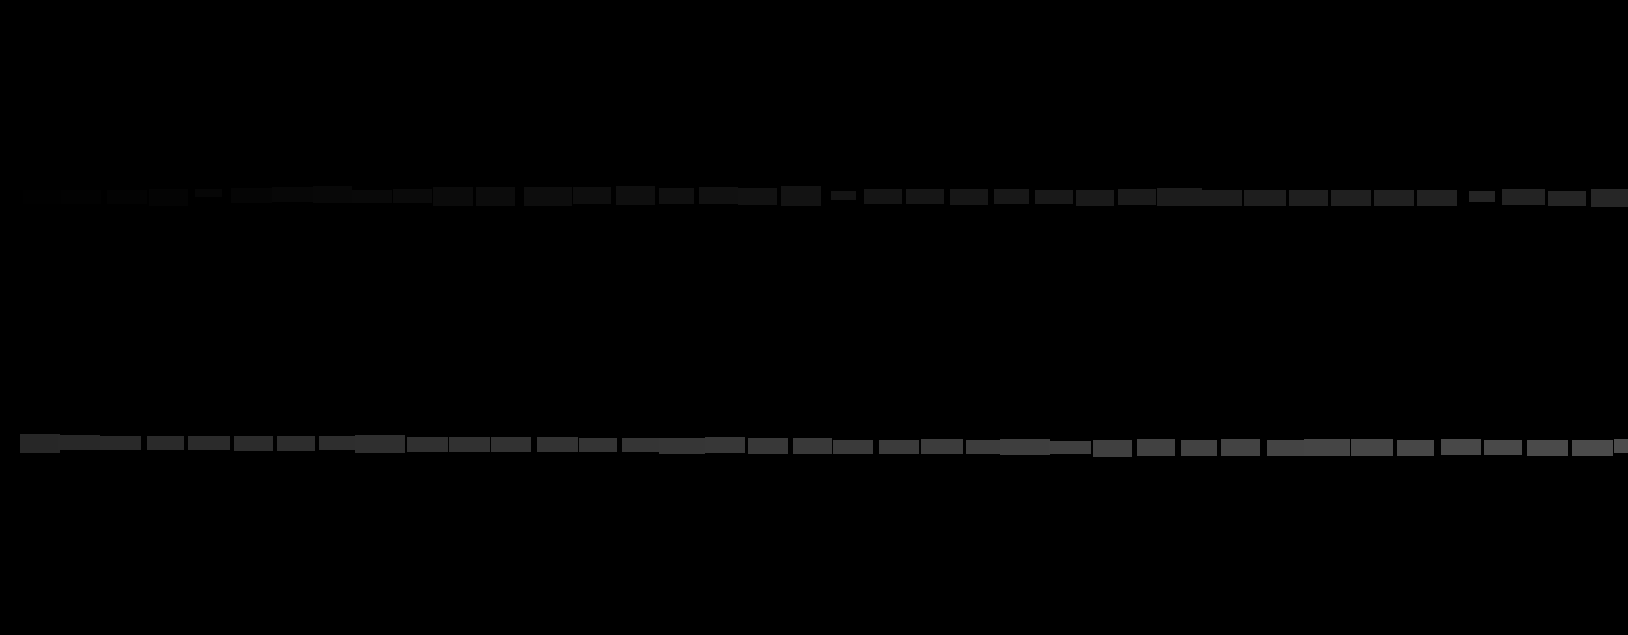light: (524, 187, 572, 206), (355, 435, 405, 453), (1157, 188, 1202, 206), (781, 186, 821, 206), (1000, 439, 1050, 455), (433, 187, 473, 206), (20, 434, 60, 453), (476, 187, 515, 206), (616, 186, 655, 205), (659, 438, 705, 454), (1304, 439, 1350, 455), (1244, 190, 1286, 206), (1502, 189, 1545, 205), (1351, 439, 1393, 455), (1591, 189, 1628, 208), (313, 186, 352, 203), (699, 187, 738, 204), (1200, 190, 1242, 206), (150, 189, 188, 206), (738, 188, 777, 205), (1374, 190, 1414, 206), (705, 437, 745, 453), (748, 438, 788, 454), (921, 439, 964, 454), (573, 187, 610, 204), (1288, 190, 1328, 206), (1331, 190, 1371, 206), (1417, 190, 1457, 206), (1221, 439, 1260, 455), (1441, 439, 1481, 455), (230, 188, 272, 203), (58, 435, 100, 450), (449, 437, 490, 452), (537, 437, 578, 452), (1572, 440, 1613, 455), (950, 189, 988, 205), (1076, 190, 1114, 206), (793, 438, 832, 454), (1093, 440, 1132, 457), (1137, 439, 1175, 455), (272, 187, 313, 202), (407, 437, 447, 452), (1527, 440, 1568, 455), (1118, 189, 1156, 205), (188, 436, 230, 450), (234, 436, 273, 451), (491, 437, 531, 452), (1267, 440, 1306, 455), (100, 436, 141, 450), (864, 189, 902, 204), (1548, 191, 1586, 206), (1484, 440, 1522, 455), (23, 190, 63, 204), (107, 190, 147, 204), (833, 440, 873, 454), (906, 189, 944, 204), (277, 436, 315, 451), (1049, 441, 1091, 454), (61, 190, 101, 204), (879, 440, 919, 454), (659, 188, 694, 204), (1181, 440, 1217, 455), (1398, 440, 1434, 455), (394, 189, 432, 203), (622, 438, 660, 452), (966, 440, 1004, 454), (994, 189, 1029, 204), (352, 190, 392, 203), (1035, 190, 1073, 204), (319, 436, 356, 450), (579, 438, 617, 452), (147, 436, 184, 450), (1469, 191, 1495, 202), (831, 191, 856, 200), (195, 189, 222, 197), (1615, 439, 1628, 453)
